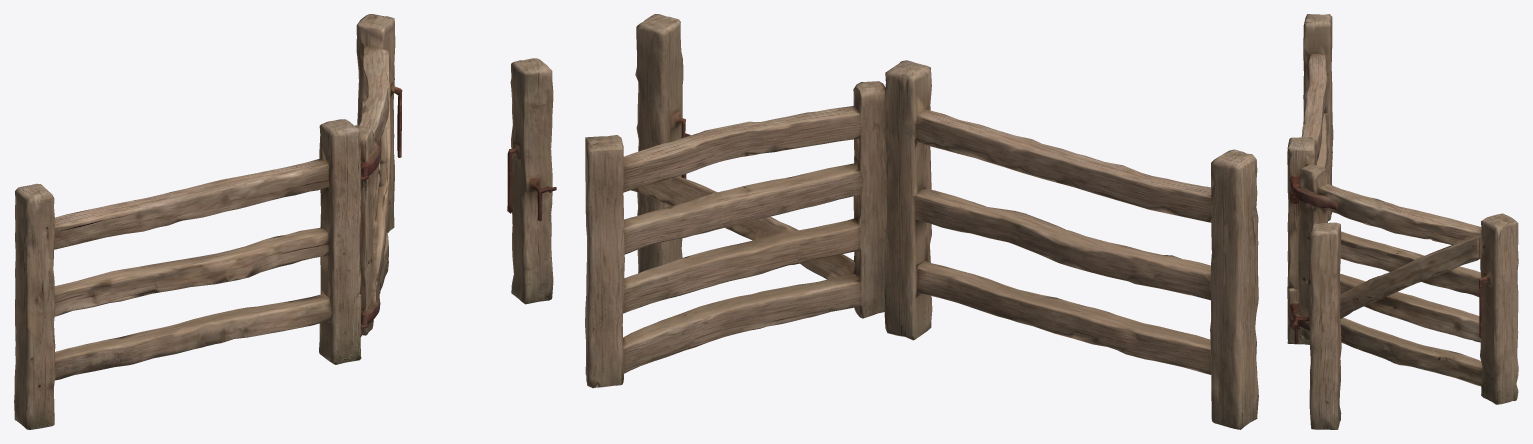
Rendered from fence_wood.glb.
3 renders of one model, left to right at view 1: azimuth 30°, elevation 25°; view 2: azimuth 150°, elevation 25°; view 3: azimuth 270°, elevation 25°, orthographic. The views are drawn at different scales.
Parts seen in each view (by area): view 1: tripo_node_7a68f21e-8987-44be-9b29-94301df421cb; view 2: tripo_node_7a68f21e-8987-44be-9b29-94301df421cb; view 3: tripo_node_7a68f21e-8987-44be-9b29-94301df421cb.
Part boxes in pixels (bbox=[...]): tripo_node_7a68f21e-8987-44be-9b29-94301df421cb: bbox=[14, 14, 556, 429]; tripo_node_7a68f21e-8987-44be-9b29-94301df421cb: bbox=[585, 14, 1258, 429]; tripo_node_7a68f21e-8987-44be-9b29-94301df421cb: bbox=[1287, 14, 1518, 429].
Bounding box in the file's own units: 1 × 0.4186 × 0.4418.
1 material, 1 textured.
